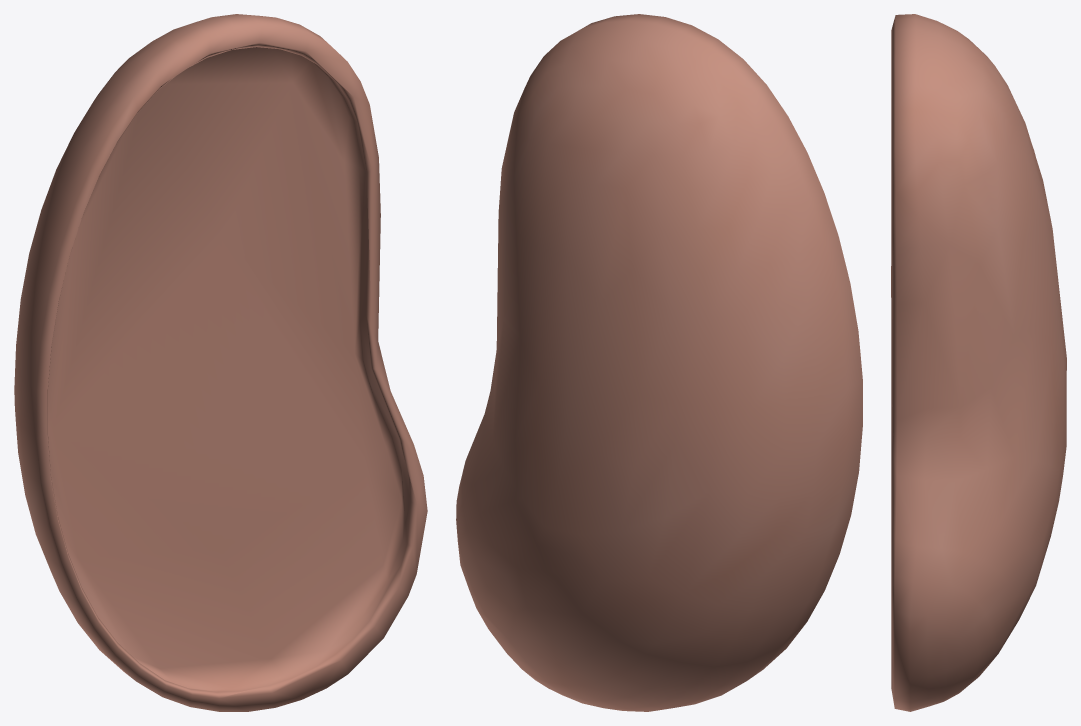
The picture shows the model from 3 angles, left to right: view 1: azimuth 30°, elevation 25°; view 2: azimuth 150°, elevation 25°; view 3: azimuth 270°, elevation 25°; orthographic projection. The views are drawn at different scales.
Visible parts, largest first — view 1: LOD 1_14591652872871216962_a1e5460f9667e624384844bb77a670e0; view 2: LOD 1_14591652872871216962_a1e5460f9667e624384844bb77a670e0; view 3: LOD 1_14591652872871216962_a1e5460f9667e624384844bb77a670e0.
Boxes of the visible parts, left/top/right/bottom form: LOD 1_14591652872871216962_a1e5460f9667e624384844bb77a670e0: left=14, top=14, right=427, bottom=711; LOD 1_14591652872871216962_a1e5460f9667e624384844bb77a670e0: left=456, top=14, right=862, bottom=711; LOD 1_14591652872871216962_a1e5460f9667e624384844bb77a670e0: left=891, top=14, right=1066, bottom=711.
Size of the model in its own units: 4.35 by 7.33 by 1.81.
